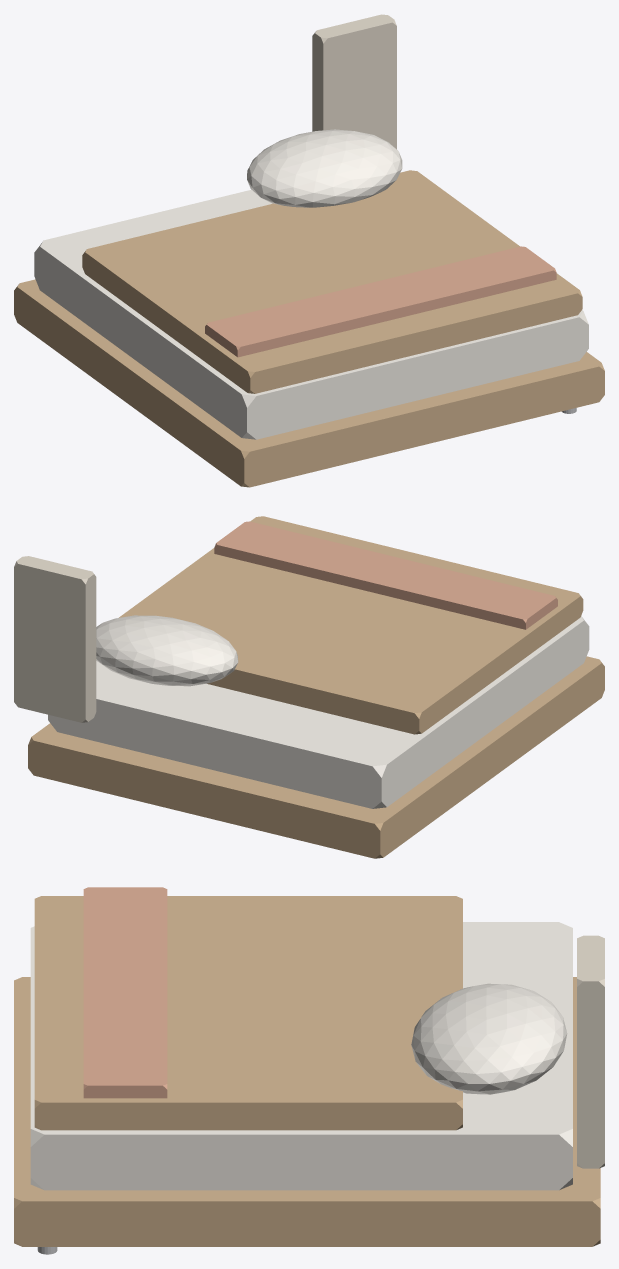
Rendered from king_bed_medium.glb.
3 views of the same model, one above another, from view 1: azimuth 30°, elevation 25°; view 2: azimuth 150°, elevation 25°; view 3: azimuth 270°, elevation 25° (orthographic). The views are drawn at different scales.
Parts seen in each view (by area): view 1: FABRIC_SAND_duvet, FABRIC_LIGHT_mattress, WOOD_DARK_frame, FABRIC_ACCENT_throw, FABRIC_LIGHT_pillow, FABRIC_MAIN_headboard_panel; view 2: FABRIC_SAND_duvet, FABRIC_LIGHT_mattress, WOOD_DARK_frame, FABRIC_ACCENT_throw, FABRIC_MAIN_headboard_panel, FABRIC_LIGHT_pillow; view 3: FABRIC_SAND_duvet, FABRIC_LIGHT_mattress, WOOD_DARK_frame, FABRIC_ACCENT_throw, FABRIC_LIGHT_pillow, FABRIC_MAIN_headboard_panel.
Part boxes in pixels (<box>): FABRIC_SAND_duvet: <box>82,170,582,393</box>; FABRIC_LIGHT_mattress: <box>34,189,588,439</box>; WOOD_DARK_frame: <box>14,279,604,487</box>; FABRIC_ACCENT_throw: <box>205,246,556,357</box>; FABRIC_LIGHT_pillow: <box>247,129,402,207</box>; FABRIC_MAIN_headboard_panel: <box>312,14,396,149</box>; FABRIC_SAND_duvet: <box>119,516,583,734</box>; FABRIC_LIGHT_mattress: <box>48,616,589,808</box>; WOOD_DARK_frame: <box>28,656,604,858</box>; FABRIC_ACCENT_throw: <box>214,521,557,629</box>; FABRIC_MAIN_headboard_panel: <box>14,556,96,722</box>; FABRIC_LIGHT_pillow: <box>96,615,238,686</box>; FABRIC_SAND_duvet: <box>34,896,462,1130</box>; FABRIC_LIGHT_mattress: <box>30,922,572,1190</box>; WOOD_DARK_frame: <box>14,977,600,1246</box>; FABRIC_ACCENT_throw: <box>83,887,167,1098</box>; FABRIC_LIGHT_pillow: <box>411,983,567,1094</box>; FABRIC_MAIN_headboard_panel: <box>577,935,604,1168</box>.
Size of the model in its own units: 1.97 by 1.15 by 2.12.
